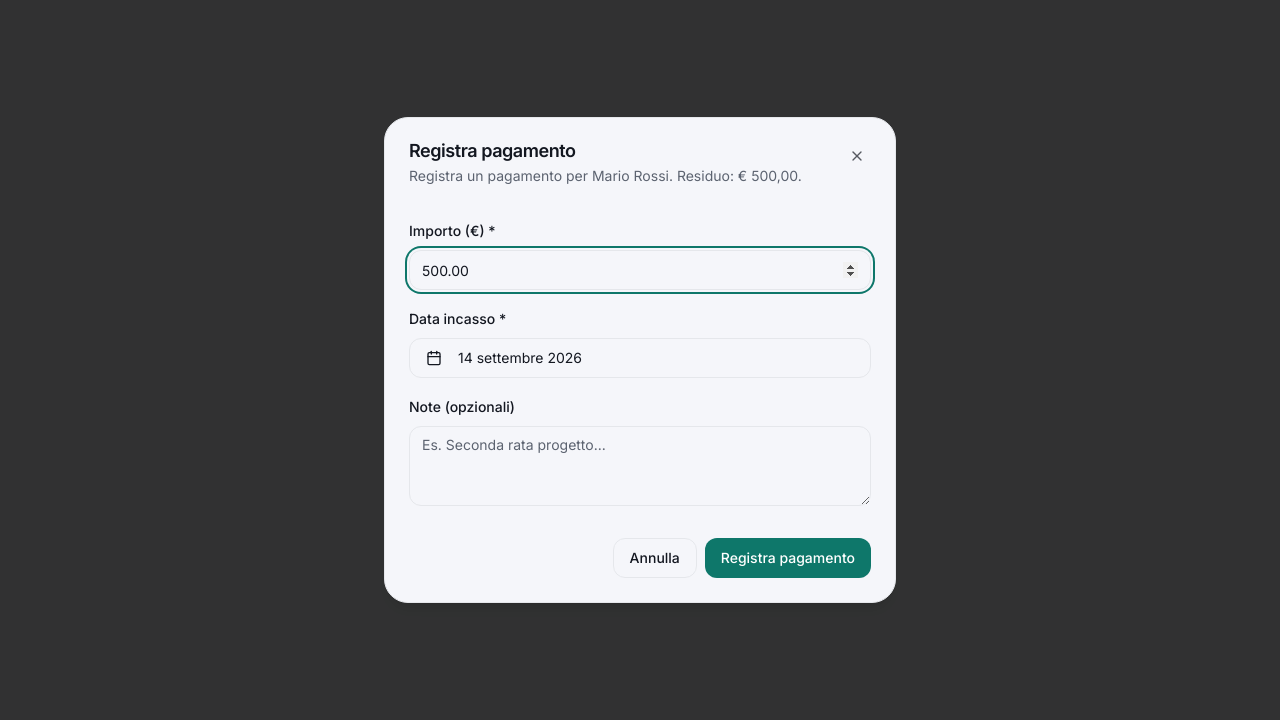
Test: RegisterPaymentDialog › validates importo <= residuo
Replace the text in the number field with test id "payment-amount" with "600" at x=640, y=270, box [409, 250, 871, 290]
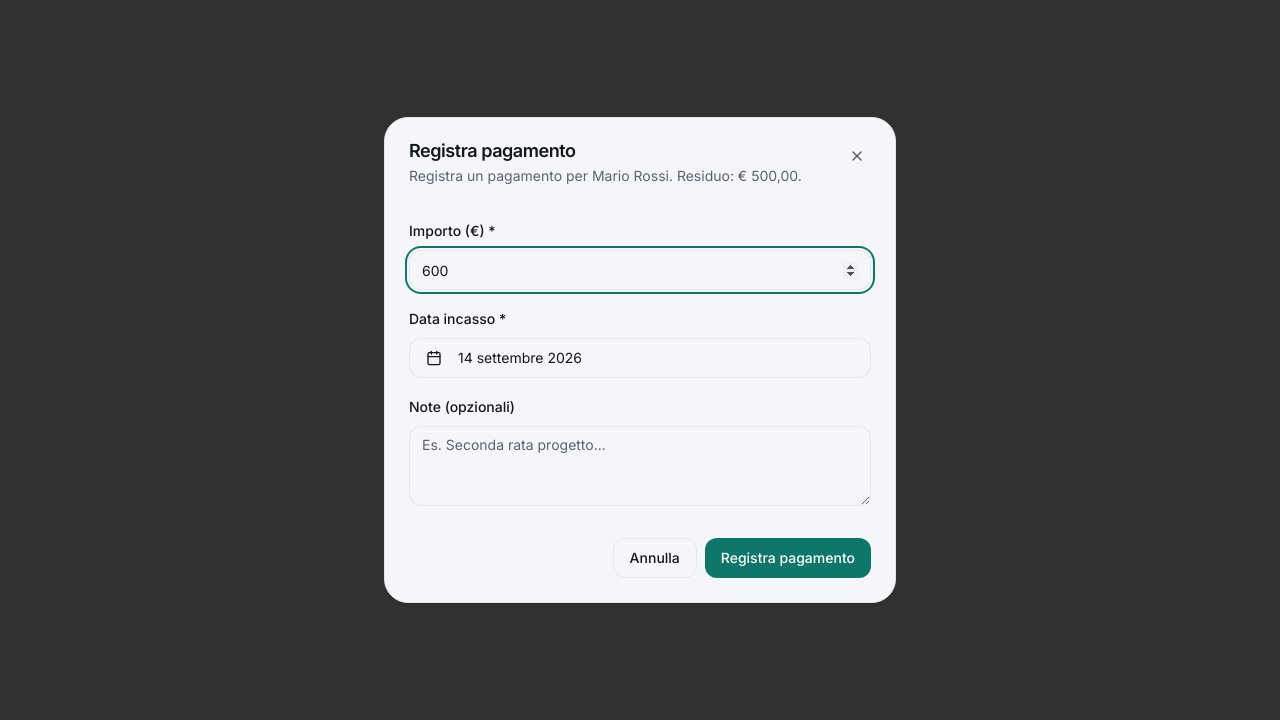
Click the button with test id "confirm-payment" at x=788, y=558, box [705, 538, 871, 578]
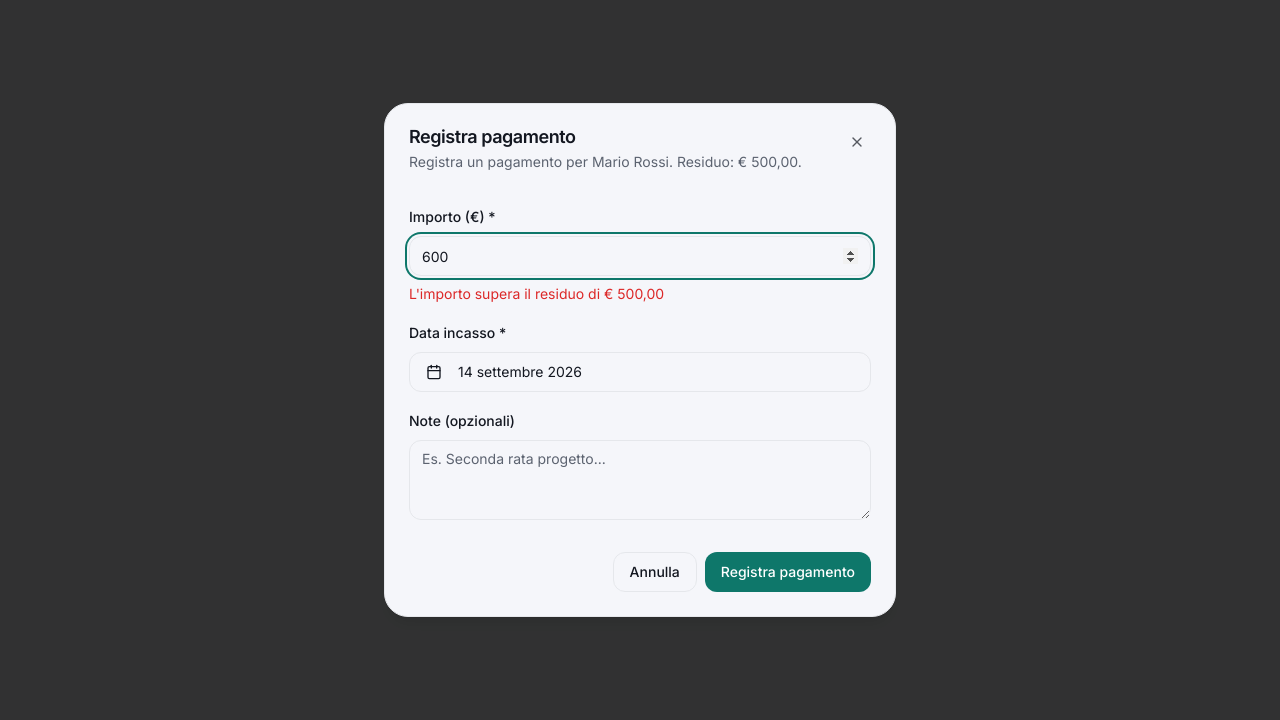
Now the text "L'importo supera il residuo di € 500,00" is shown, box [409, 285, 664, 302]
